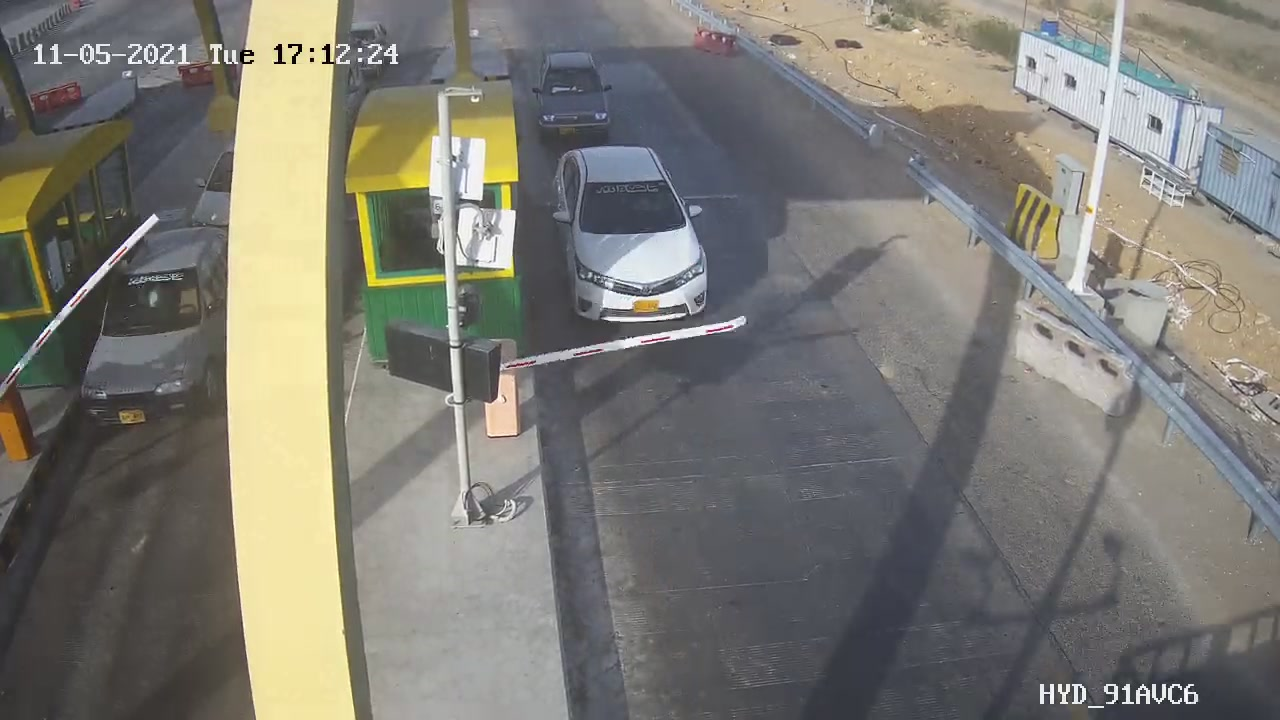F1: (534, 135, 731, 343), (521, 39, 630, 153)
